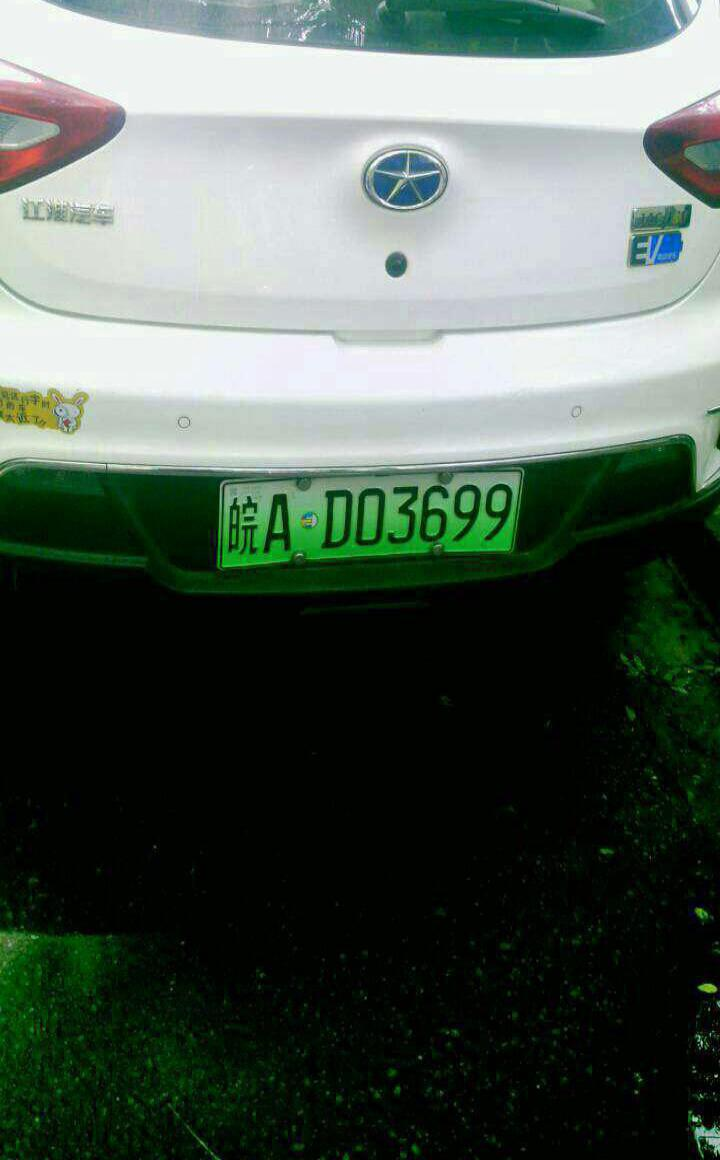car: (200, 477, 534, 555)
